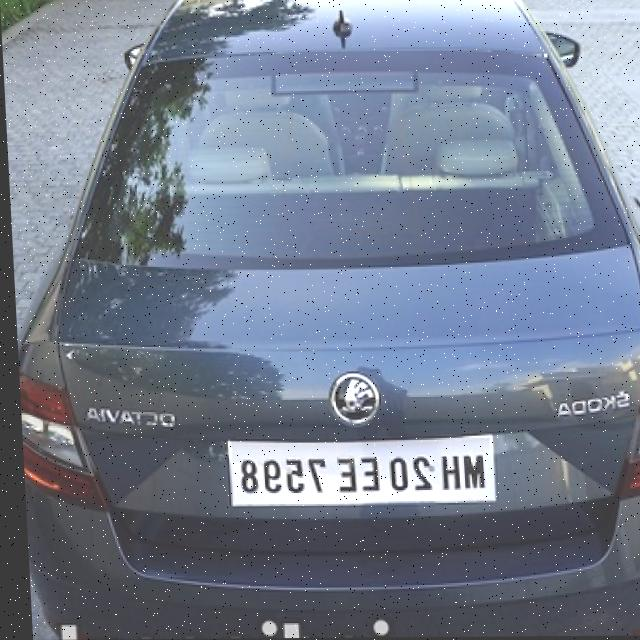plate: (220, 430, 496, 509)
